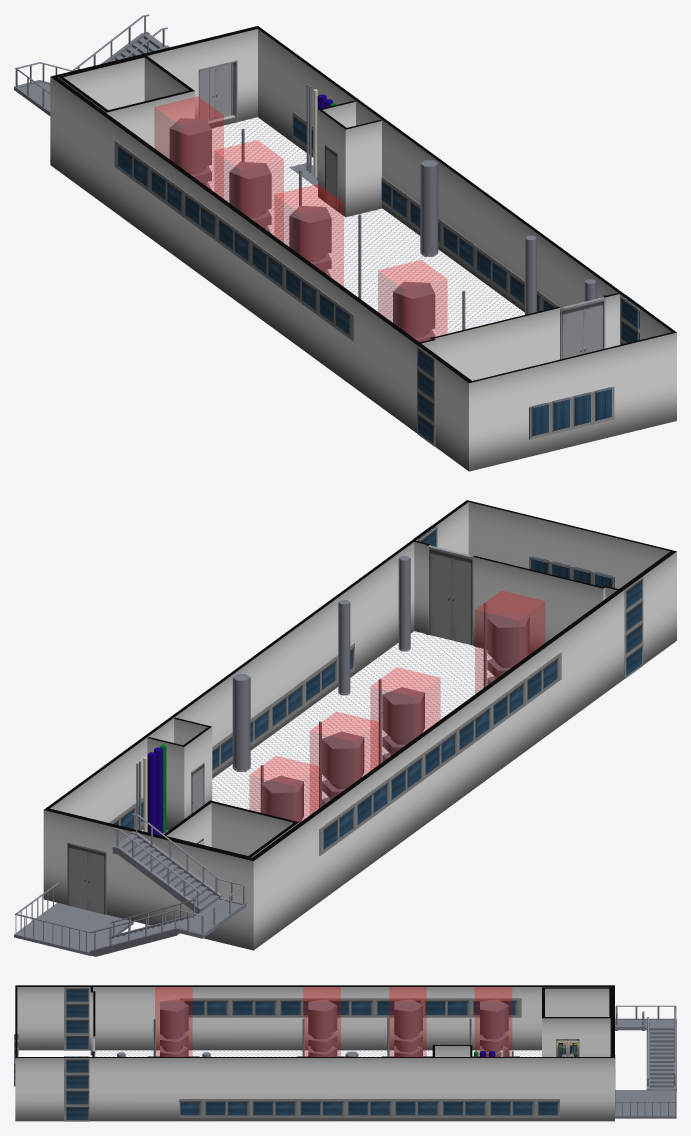
Rendered from soulbrain_T6-3-3F-1.glb.
The picture shows the model from 3 angles, top to bottom: view 1: azimuth 30°, elevation 25°; view 2: azimuth 150°, elevation 25°; view 3: azimuth 270°, elevation 25°; orthographic projection. The views are drawn at different scales.
Parts seen in each view (by area): view 1: Line1046, T6-3-3F-1, Line1049, Line1047, equipment-T6-3-3F-1-002, equipment-T6-3-3F-1-003, equipment-T6-3-3F-1-004, equipment-T6-3-3F-1-001, Line624; view 2: Line1046, T6-3-3F-1, Line624, Line1049, Line1047, equipment-T6-3-3F-1-002, equipment-T6-3-3F-1-001, equipment-T6-3-3F-1-003, equipment-T6-3-3F-1-004; view 3: Line1046, T6-3-3F-1, Line1049, Line624, equipment-T6-3-3F-1-001, equipment-T6-3-3F-1-003, equipment-T6-3-3F-1-002, equipment-T6-3-3F-1-004, Line1047.
Part boxes in pixels (bbox=[...]): Line1046: bbox=[50, 26, 676, 471]; T6-3-3F-1: bbox=[114, 60, 643, 446]; Line1049: bbox=[169, 118, 435, 342]; Line1047: bbox=[241, 84, 596, 329]; equipment-T6-3-3F-1-002: bbox=[274, 184, 343, 286]; equipment-T6-3-3F-1-003: bbox=[214, 140, 283, 242]; equipment-T6-3-3F-1-004: bbox=[154, 96, 223, 198]; equipment-T6-3-3F-1-001: bbox=[378, 260, 447, 341]; Line624: bbox=[14, 14, 169, 115]; Line1046: bbox=[43, 500, 676, 950]; T6-3-3F-1: bbox=[67, 525, 643, 914]; Line624: bbox=[14, 813, 246, 956]; Line1049: bbox=[261, 610, 529, 822]; Line1047: bbox=[136, 556, 486, 835]; equipment-T6-3-3F-1-002: bbox=[370, 667, 440, 769]; equipment-T6-3-3F-1-001: bbox=[475, 590, 544, 693]; equipment-T6-3-3F-1-003: bbox=[310, 712, 379, 814]; equipment-T6-3-3F-1-004: bbox=[249, 756, 319, 822]; Line1046: bbox=[15, 985, 614, 1121]; T6-3-3F-1: bbox=[14, 987, 615, 1121]; Line1049: bbox=[148, 999, 519, 1056]; Line624: bbox=[615, 1005, 676, 1118]; equipment-T6-3-3F-1-001: bbox=[155, 987, 192, 1056]; equipment-T6-3-3F-1-003: bbox=[389, 987, 426, 1056]; equipment-T6-3-3F-1-002: bbox=[303, 987, 340, 1056]; equipment-T6-3-3F-1-004: bbox=[475, 987, 511, 1056]; Line1047: bbox=[117, 1017, 513, 1056].
Size of the model in its own units: 8.13 by 4.1 by 31.17.
14 materials, 12 textured.
